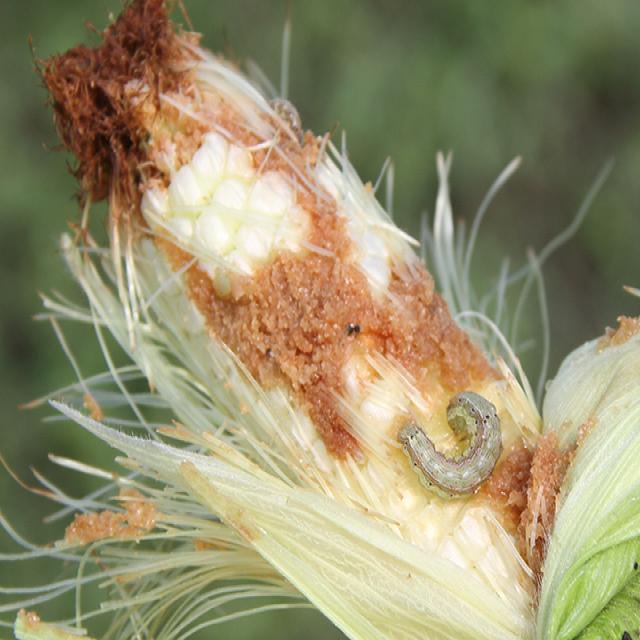cornborer-Larva-: (390, 379, 506, 511)
